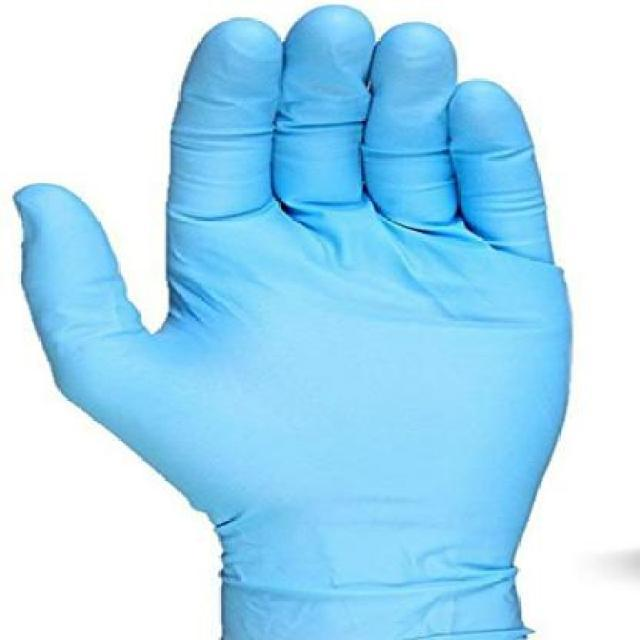glove_hand: (9, 6, 580, 637)
